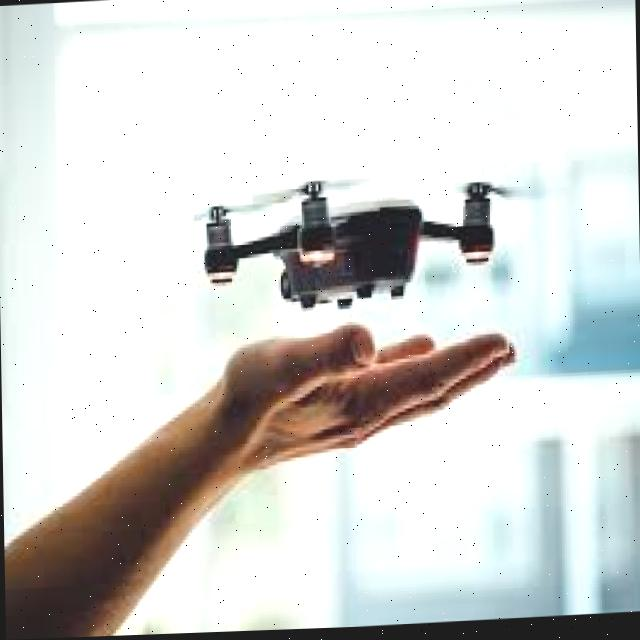drone: (174, 145, 538, 352)
